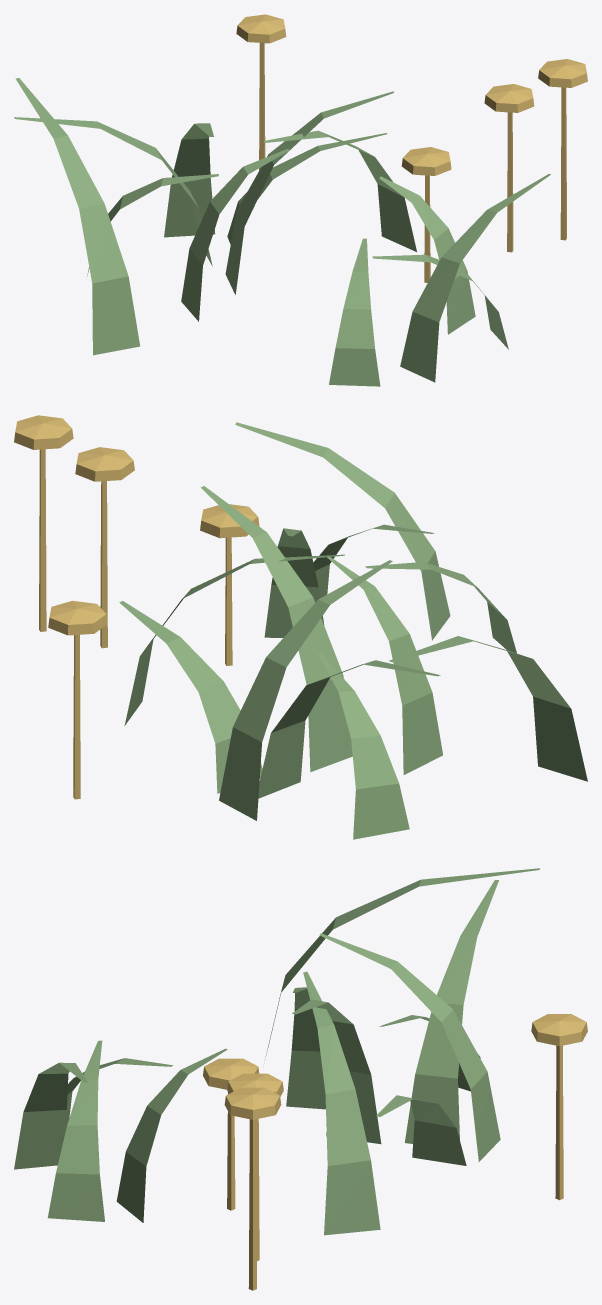
File: dandelion-clump.glb
The picture shows the model from 3 angles, top to bottom: view 1: azimuth 30°, elevation 25°; view 2: azimuth 150°, elevation 25°; view 3: azimuth 270°, elevation 25°; orthographic projection. The views are drawn at different scales.
Parts seen in each view (by area): view 1: dandelion-clump; view 2: dandelion-clump; view 3: dandelion-clump.
Boxes of the visible parts, box(x1,y1,x2,y2) form: dandelion-clump: box(14, 14, 587, 386); dandelion-clump: box(14, 415, 587, 839); dandelion-clump: box(14, 868, 587, 1290).
Size of the model in its own units: 0.6071 by 0.2167 by 0.5527.
